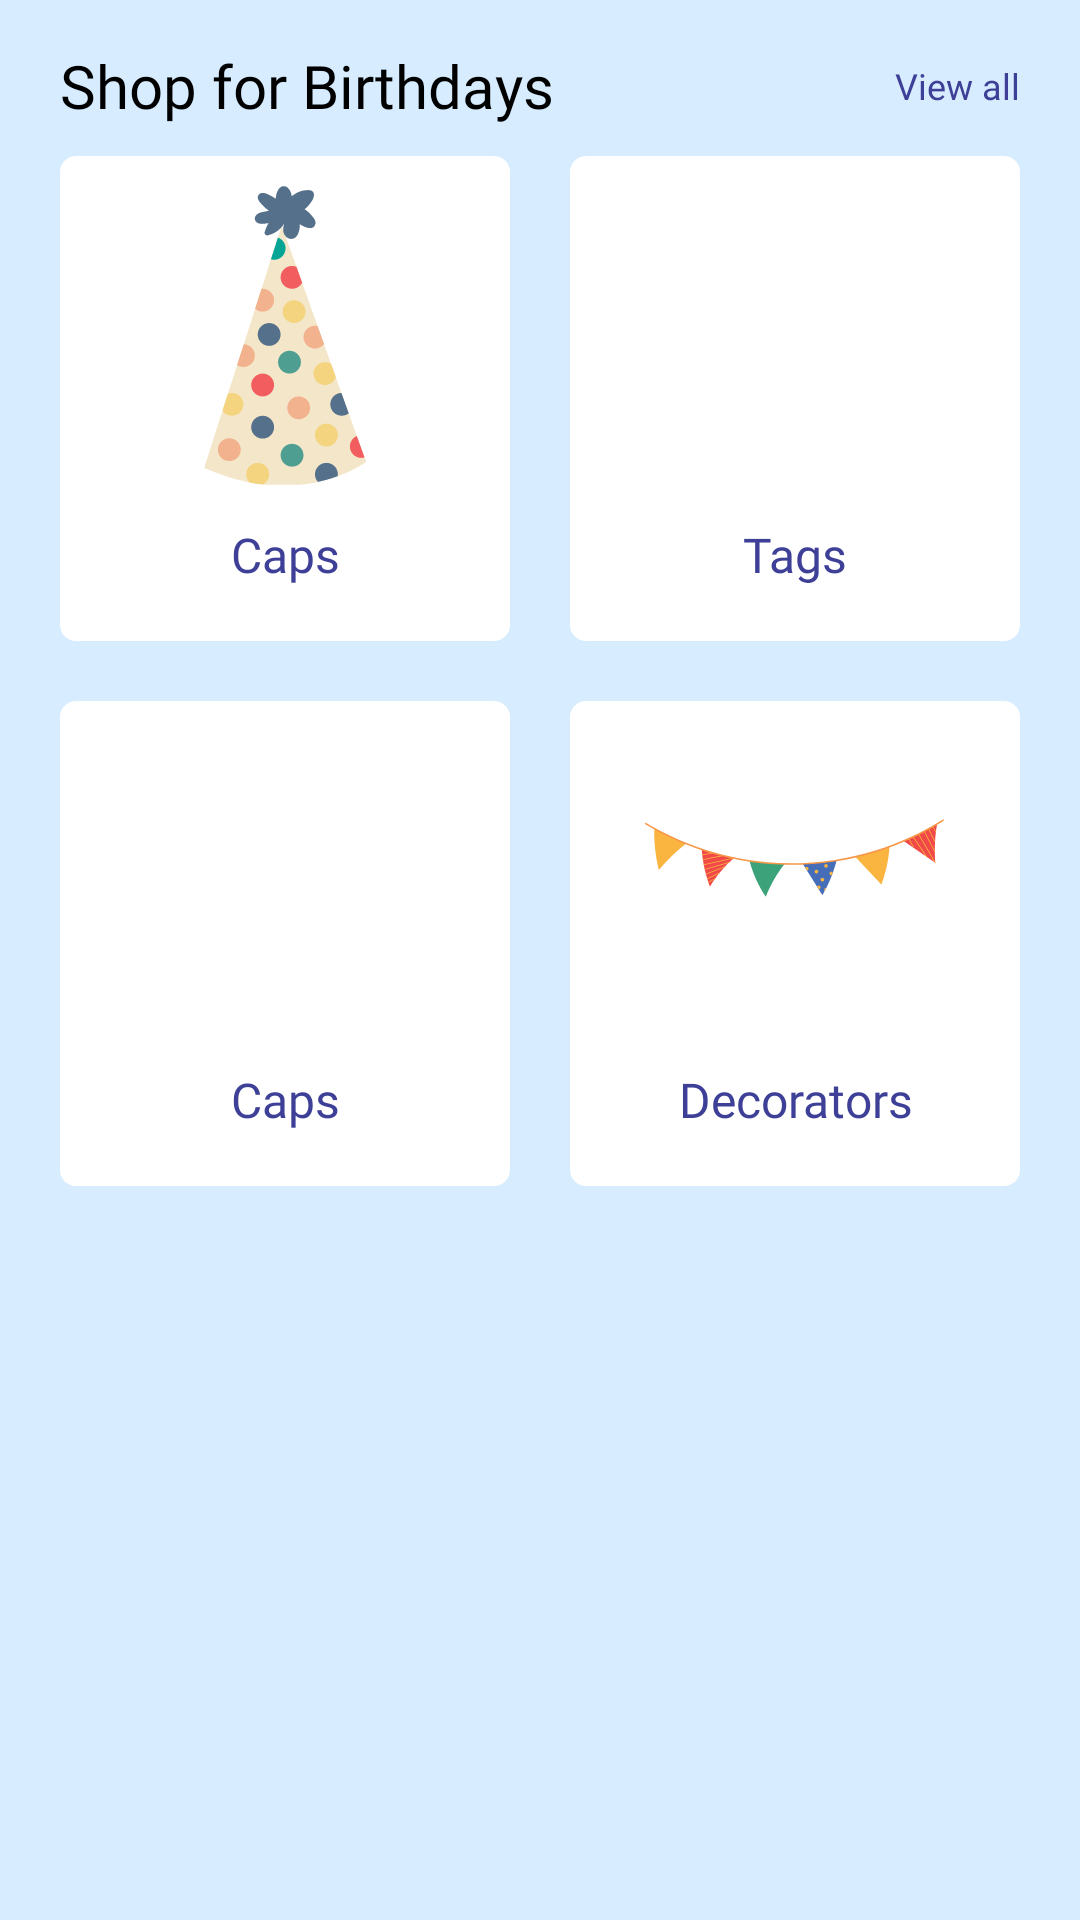

Icons on this 1080×1920 Android screen, each with the point to tap as [x,y]:
bday cap: [285,335]
party: [794,858]
